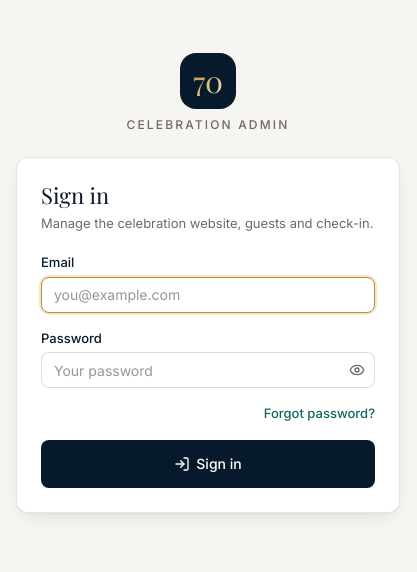
Test: LoginPage › shows a clear message for INVALID_CREDENTIALS
Type "admin@demo.local" into the field labelled "Email" at (208, 295), box [41,277,375,313]
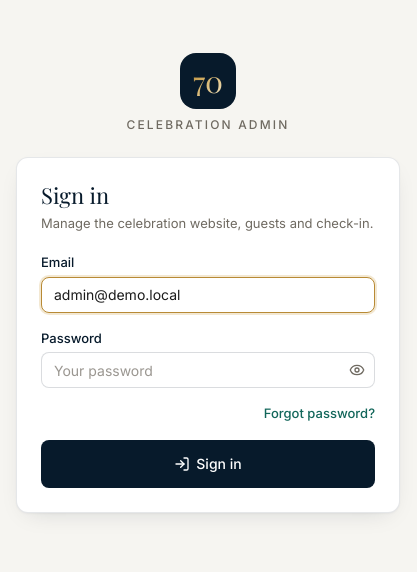
Type "wrong-password" into the password field labelled "Password" at (208, 370), box [41,352,375,388]
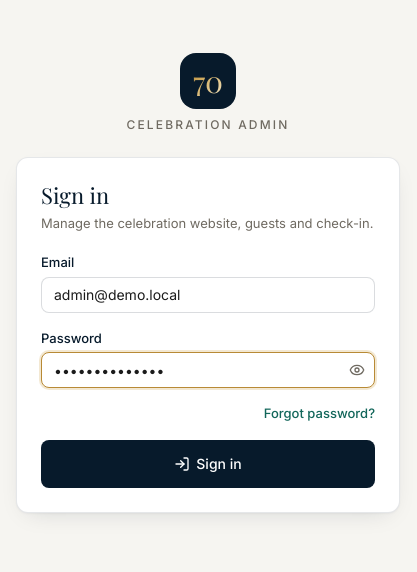
Click the button "Sign in" at (208, 464), box [41,440,375,488]
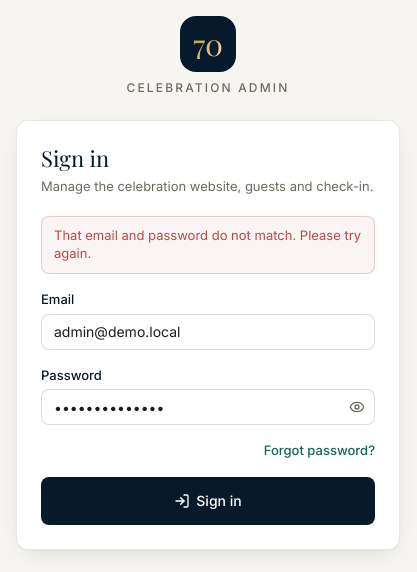
Now the message shows "That email and password do not match", box [54,227,361,261]
